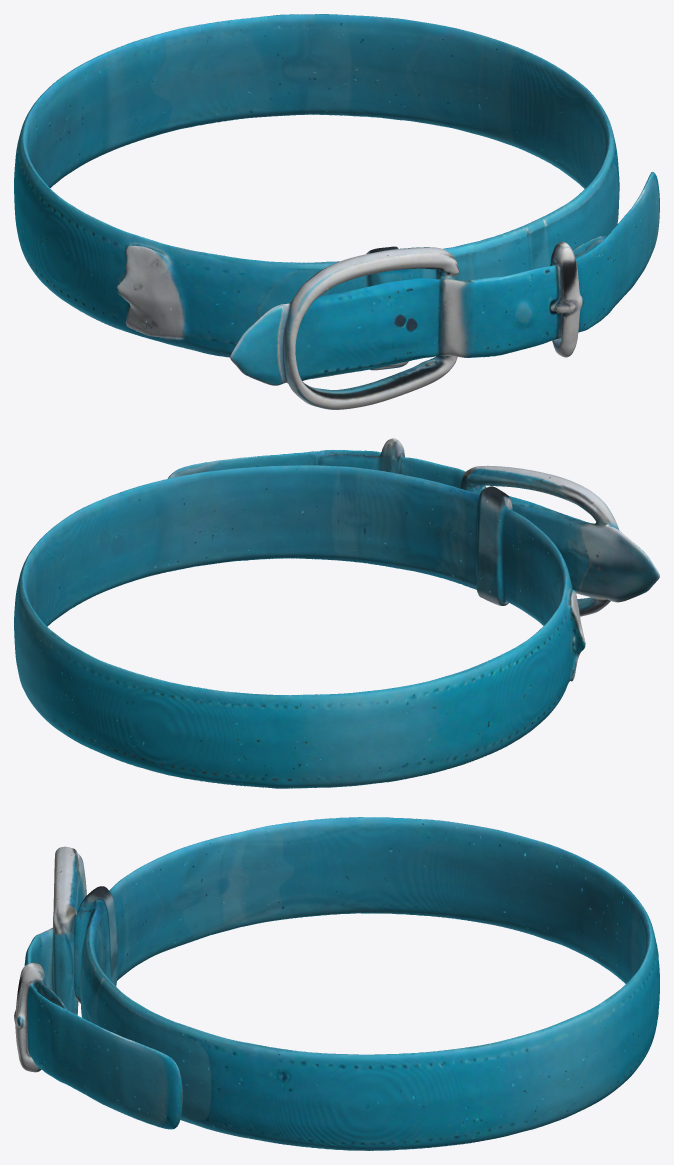
The picture shows the model from 3 angles, top to bottom: view 1: azimuth 30°, elevation 25°; view 2: azimuth 150°, elevation 25°; view 3: azimuth 270°, elevation 25°; orthographic projection. The views are drawn at different scales.
Bounding box in the file's own units: 1.8 × 0.486 × 2.
Materials: 1 (1 with a texture image).
